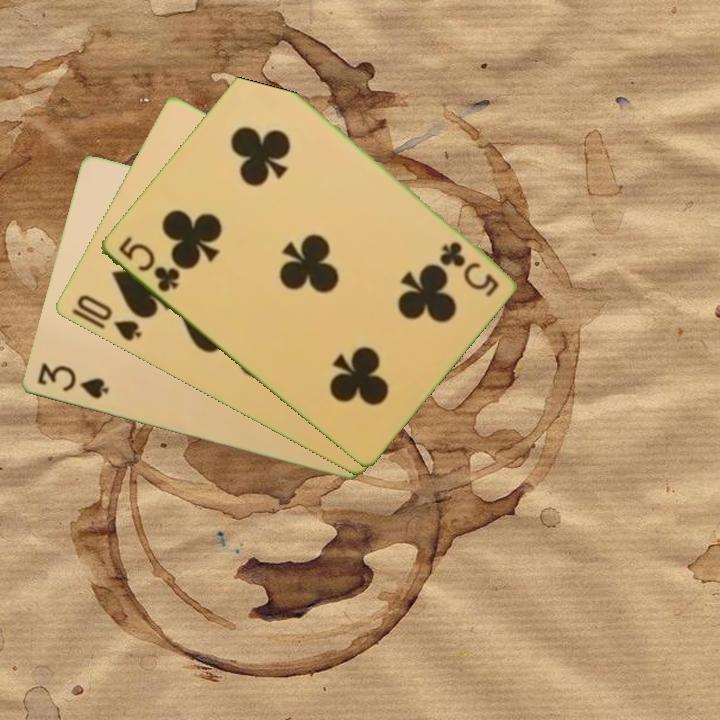10s: (72, 291, 144, 344)
3s: (33, 359, 111, 402)
5c: (114, 233, 183, 296), (436, 238, 501, 299)
